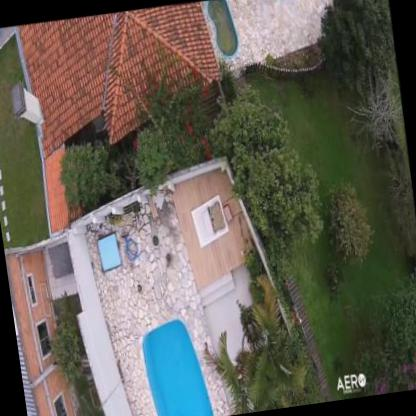agua: (206, 0, 239, 56)
